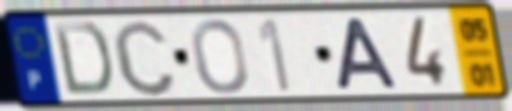1: (256, 15, 294, 96)
4: (404, 14, 450, 91)
A: (335, 16, 402, 92)
C: (108, 16, 180, 99)
D: (49, 20, 115, 99)
O: (189, 16, 251, 96)
